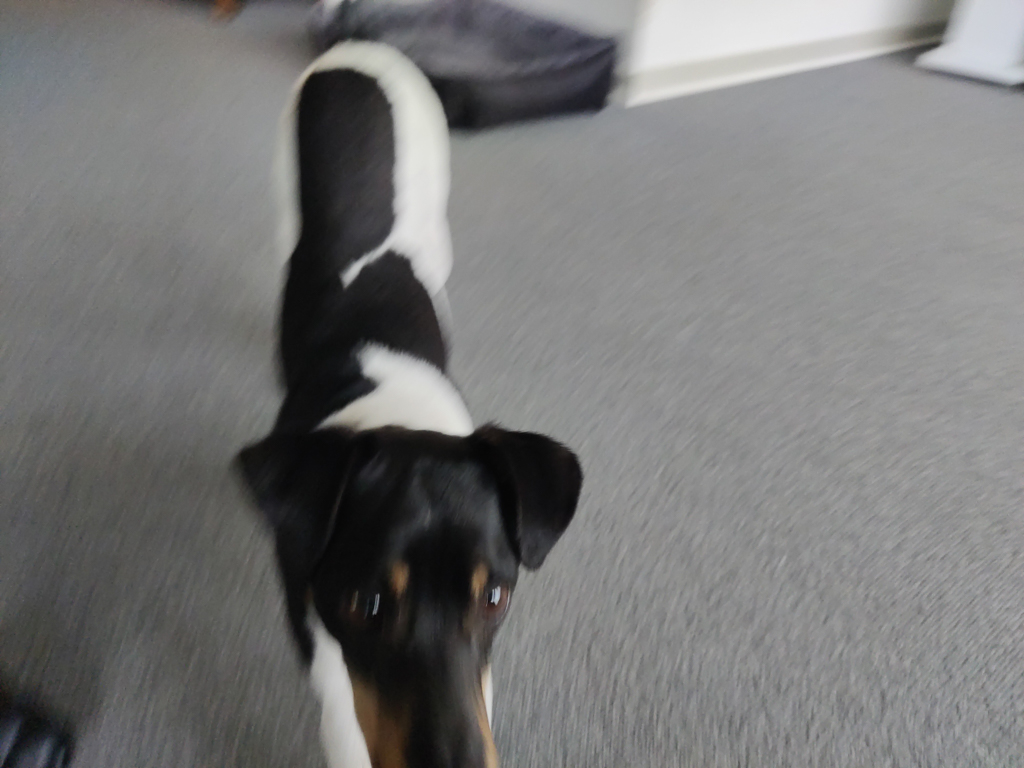Dog: (217, 0, 608, 768)
